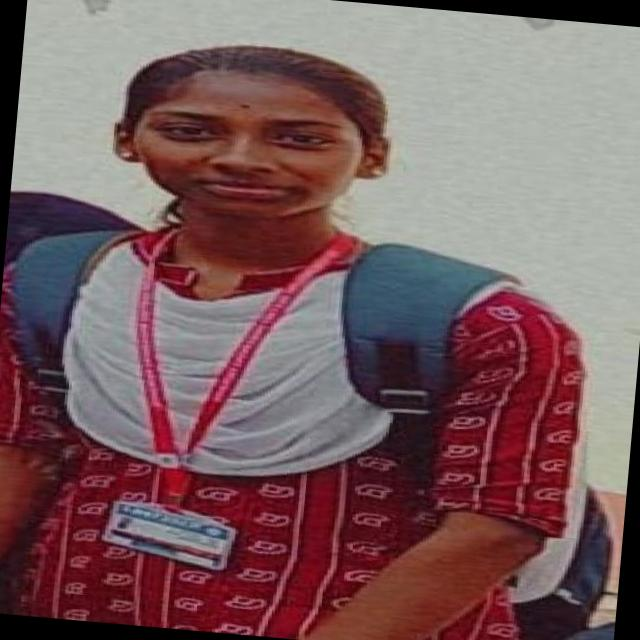id_card: (104, 196, 292, 586)
